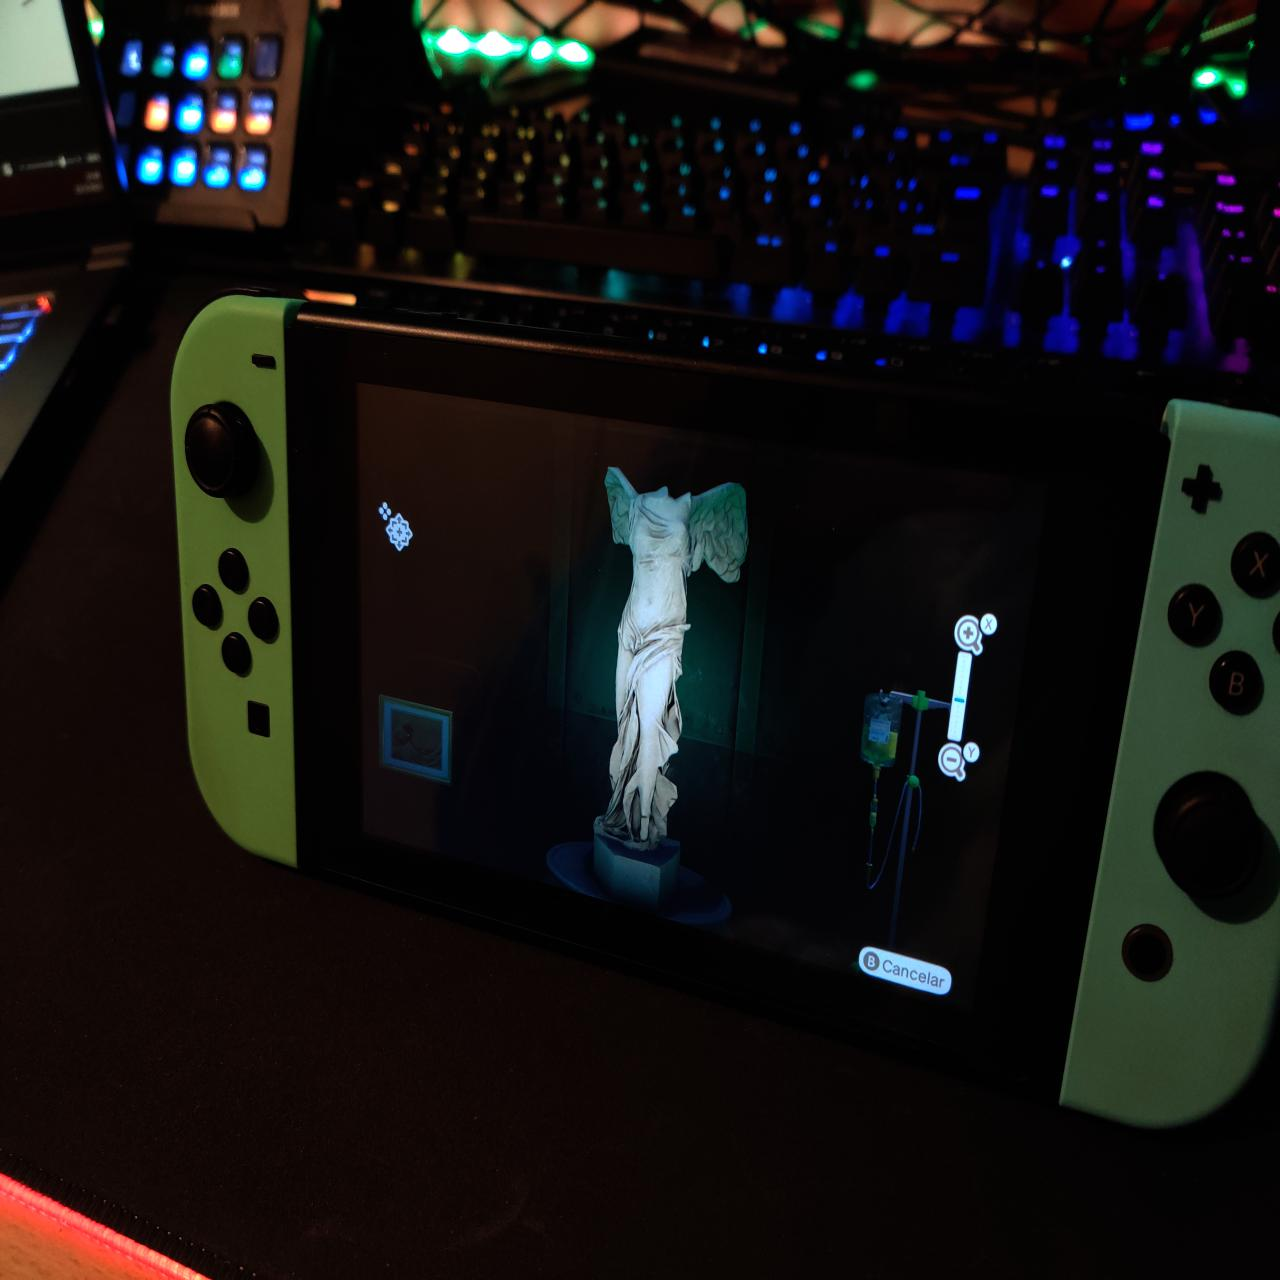SamothraceFake: (598, 458, 753, 859)
